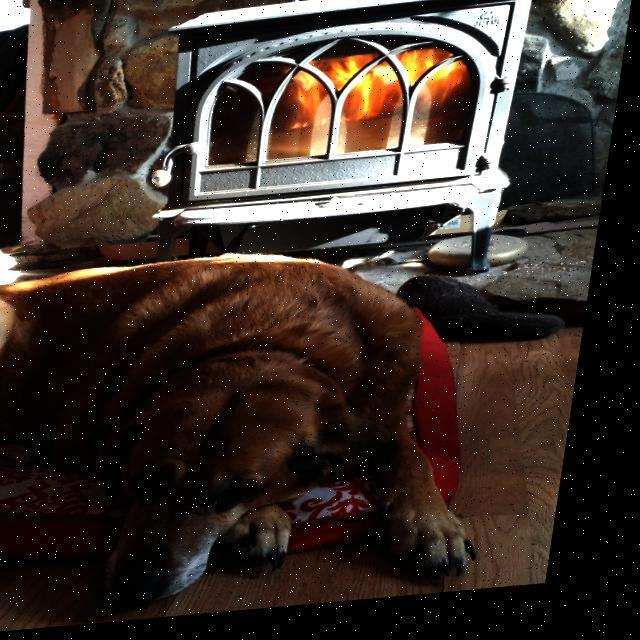Fire: (250, 46, 496, 130)
